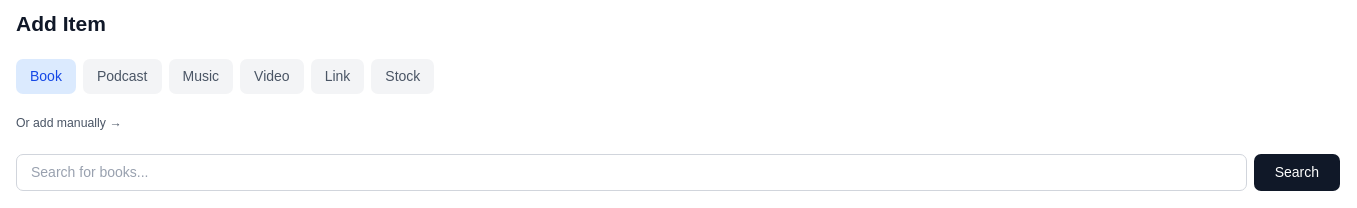
Test: AddItemForm › Type Selection › updates search placeholder based on type
This screenshot has width=1357, height=208.
Check: the field with placeholder "Search for books..." is shown, box [16,154,1247,190]
Click the button "Podcast".
click(122, 76)  # box [83,59,162,94]
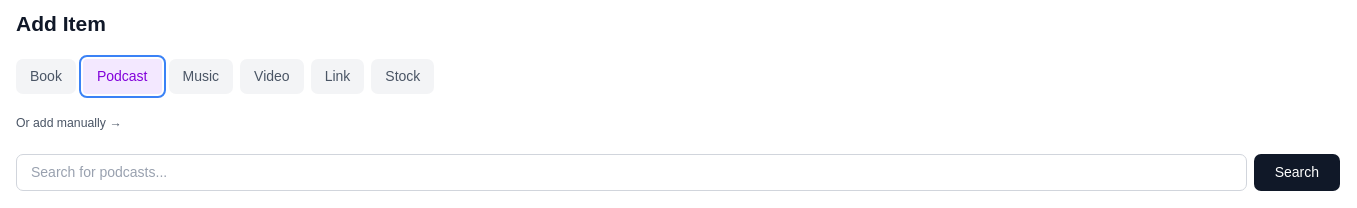
Check: the field with placeholder "Search for podcasts..." is shown, box [16,154,1247,190]
Click the button "Music".
click(201, 76)  # box [168,59,233,94]
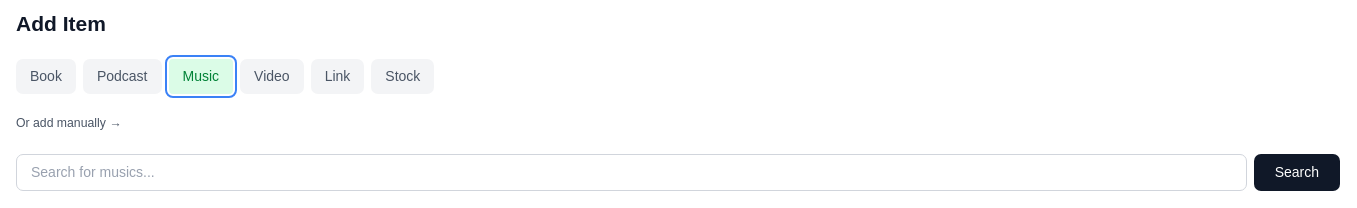
Check: the field with placeholder "Search for musics..." is shown, box [16,154,1247,190]
